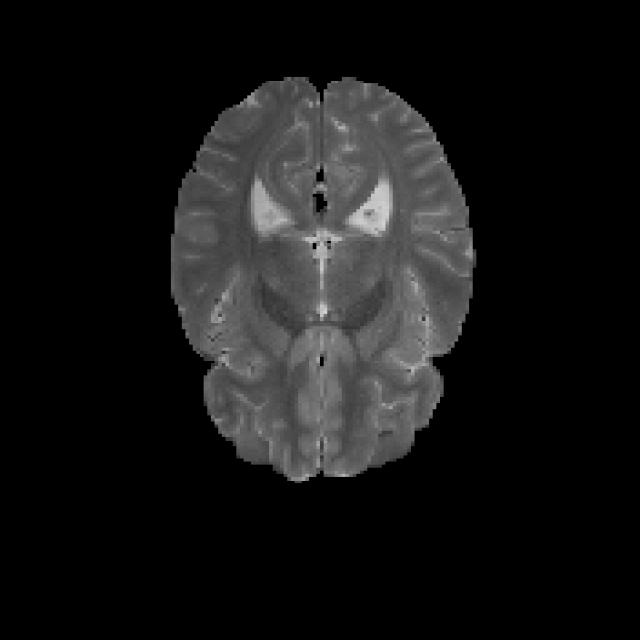CONTROL: (168, 71, 477, 480)
